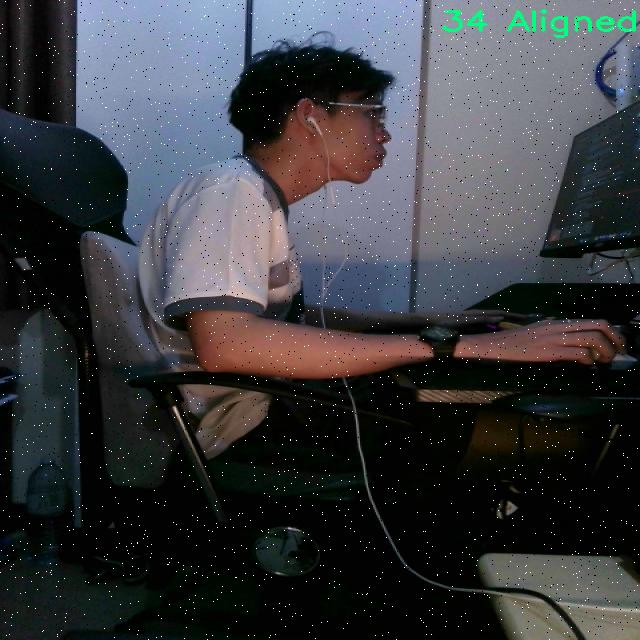Bad: (116, 36, 442, 489)
